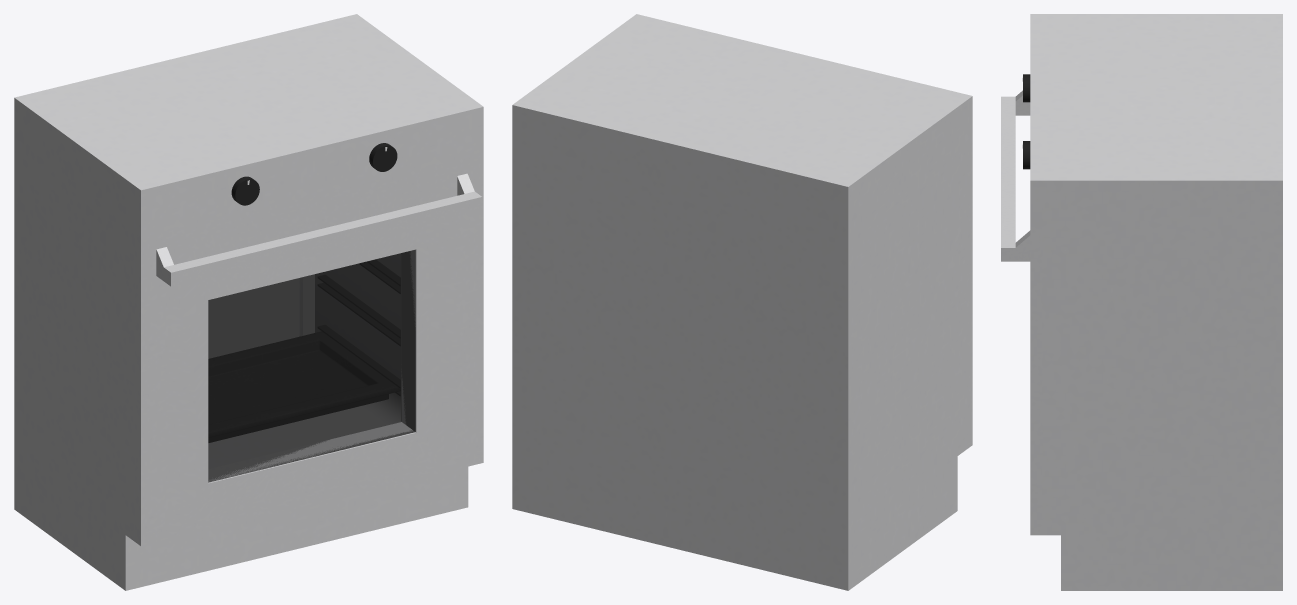
File: KitchenOven01.fbx
3 renders of one model, left to right at view 1: azimuth 30°, elevation 25°; view 2: azimuth 150°, elevation 25°; view 3: azimuth 270°, elevation 25°, orthographic.
Parts seen in each view (by area): view 1: KitchenOven01, KitchenOven01_Door01, KitchenOven01_Glass, OvenRack01, KitchenOven01_Knob01, KitchenOven01_Knob02; view 2: KitchenOven01, KitchenOven01_Door01; view 3: KitchenOven01, KitchenOven01_Door01.
Part boxes in pixels (bbox=[...]): KitchenOven01: bbox=[14, 14, 483, 590]; KitchenOven01_Door01: bbox=[135, 154, 483, 546]; KitchenOven01_Glass: bbox=[208, 250, 415, 482]; OvenRack01: bbox=[208, 331, 400, 442]; KitchenOven01_Knob01: bbox=[231, 176, 259, 205]; KitchenOven01_Knob02: bbox=[369, 143, 397, 171]; KitchenOven01: bbox=[512, 14, 972, 590]; KitchenOven01_Door01: bbox=[966, 142, 972, 448]; KitchenOven01: bbox=[1030, 14, 1282, 590]; KitchenOven01_Door01: bbox=[1001, 90, 1042, 535].
Bounding box in the file's own units: 60.81 × 69.84 × 43.48.
